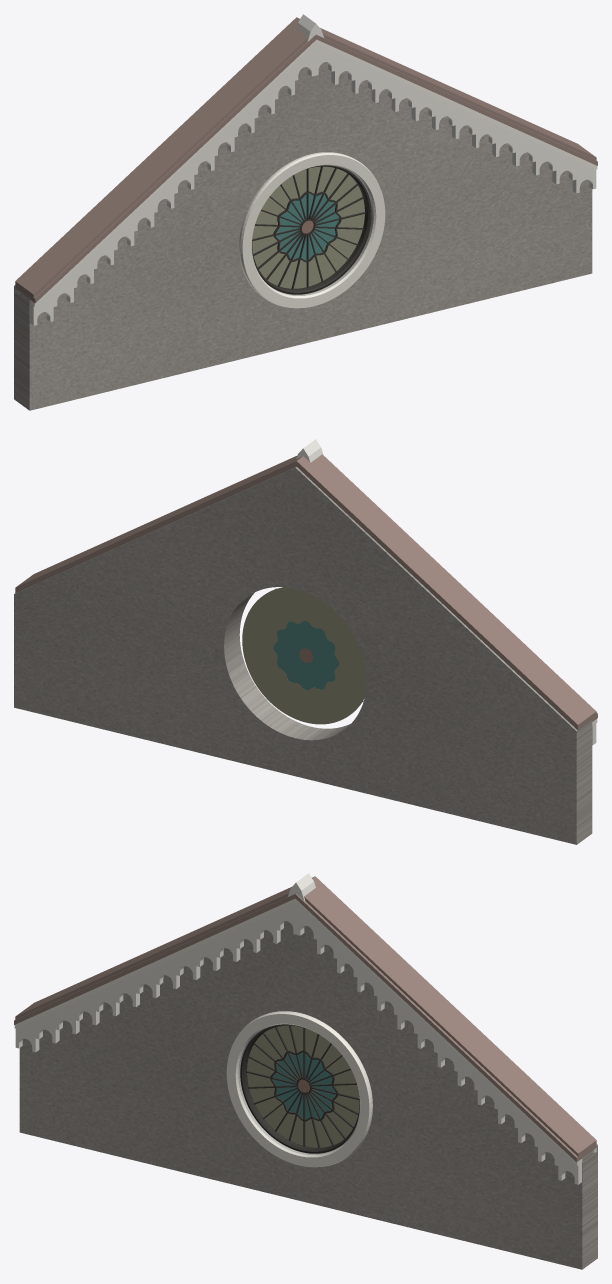
File: st-marys-oculus-near.glb
3 renders of one model, top to bottom at view 1: azimuth 30°, elevation 25°; view 2: azimuth 150°, elevation 25°; view 3: azimuth 330°, elevation 25°, orthographic.
Parts seen in each view (by area): view 1: 圣玛利亚女中礼堂山墙圆窗与拱饰; view 2: 圣玛利亚女中礼堂山墙圆窗与拱饰; view 3: 圣玛利亚女中礼堂山墙圆窗与拱饰.
Part boxes in pixels (x1,y1,x2,y2): 圣玛利亚女中礼堂山墙圆窗与拱饰: [14, 14, 597, 410]; 圣玛利亚女中礼堂山墙圆窗与拱饰: [14, 439, 597, 844]; 圣玛利亚女中礼堂山墙圆窗与拱饰: [14, 873, 597, 1269].
Size of the model in its own units: 7.84 by 4.29 by 0.513.
Materials: 9 (1 with a texture image).
